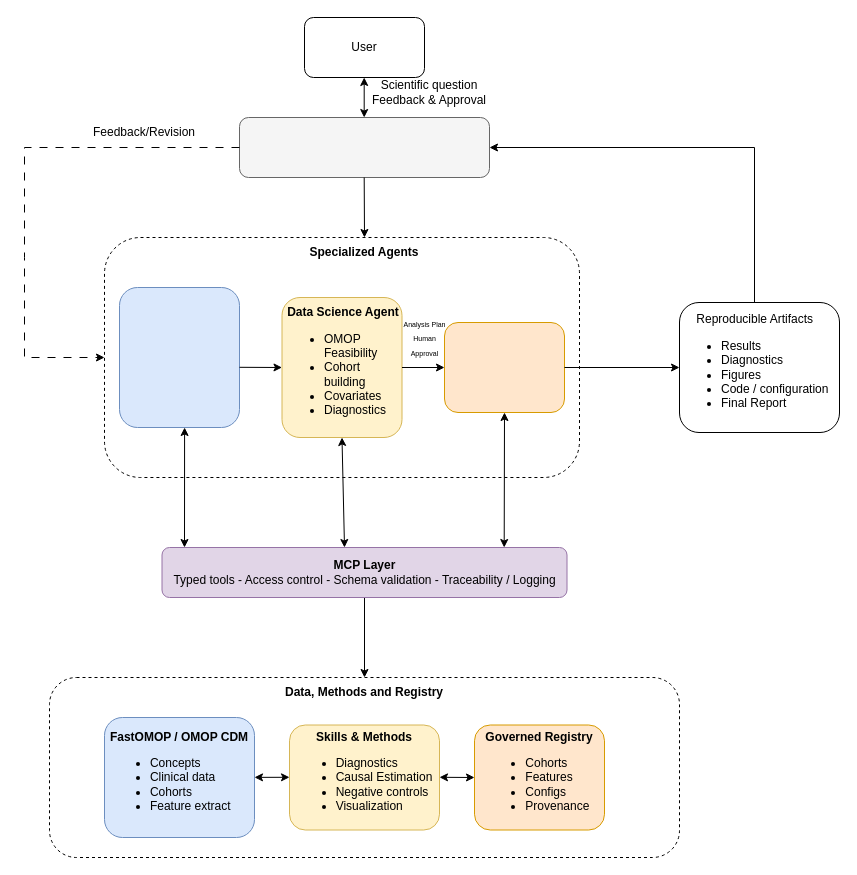
Some shapes in this 857 by 875 pixel diagram are drawn without their labels. Each missing label, with the centre of its shape:
CausalOMOP Orchestrator Agent Dialogue - Workflow state - Human Validation: [364,147]
Execution Agent Run analyses Collect Results: [504,367]
Hypothesis Agent Causal Question Formulation PICO/PECO Confounders Biases: [179,357]
